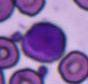L: (22, 22, 66, 62)
